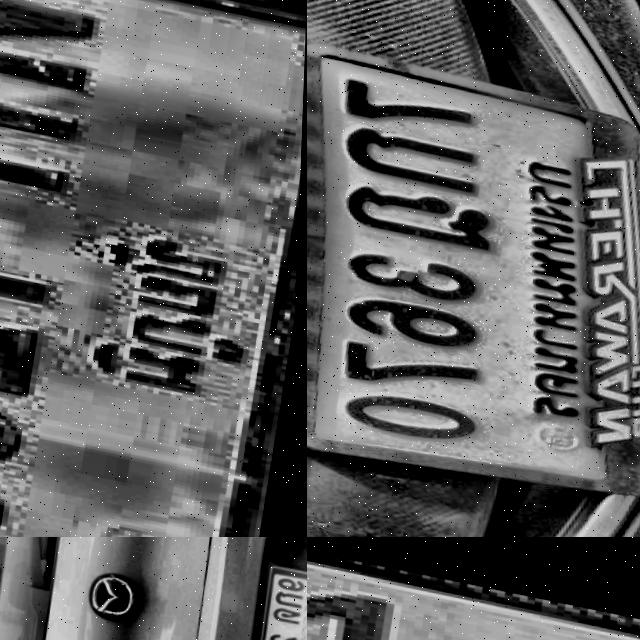license-plate: (0, 0, 307, 537), (307, 25, 640, 504), (307, 537, 640, 640), (253, 557, 307, 640)
